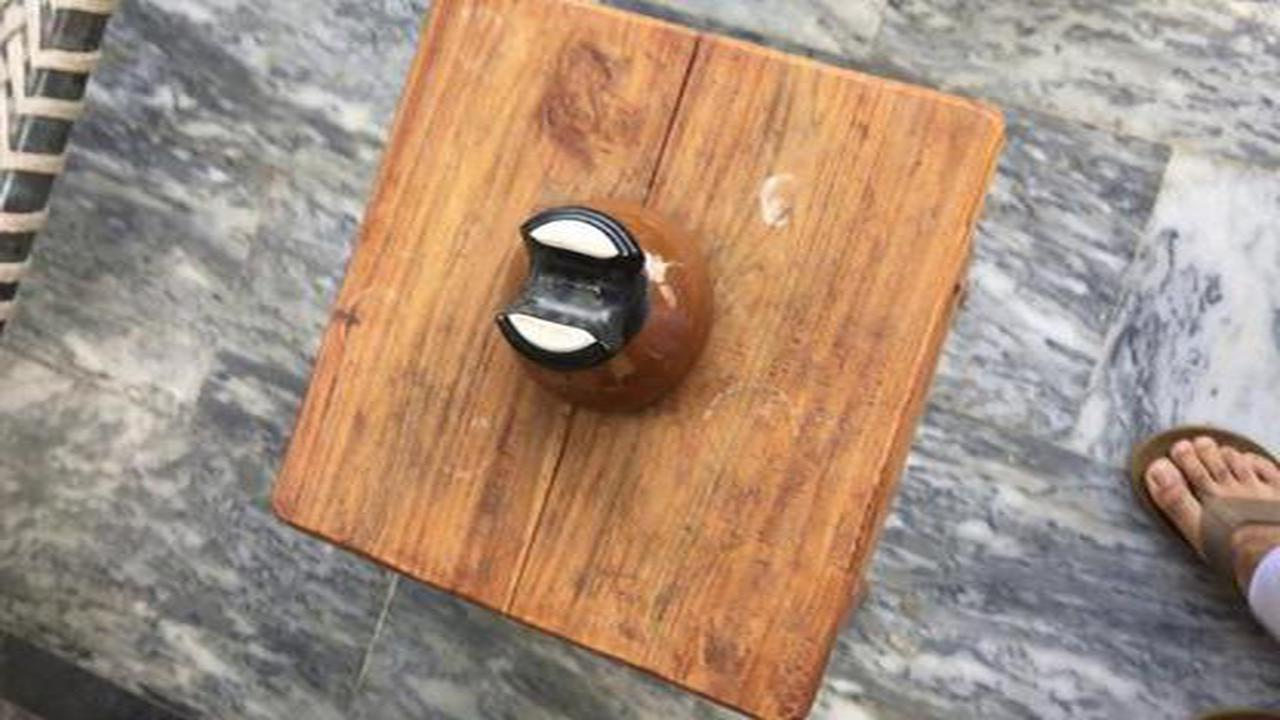insulator_pin: (490, 188, 733, 430)
